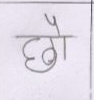ai_matra: (45, 12, 64, 36)
